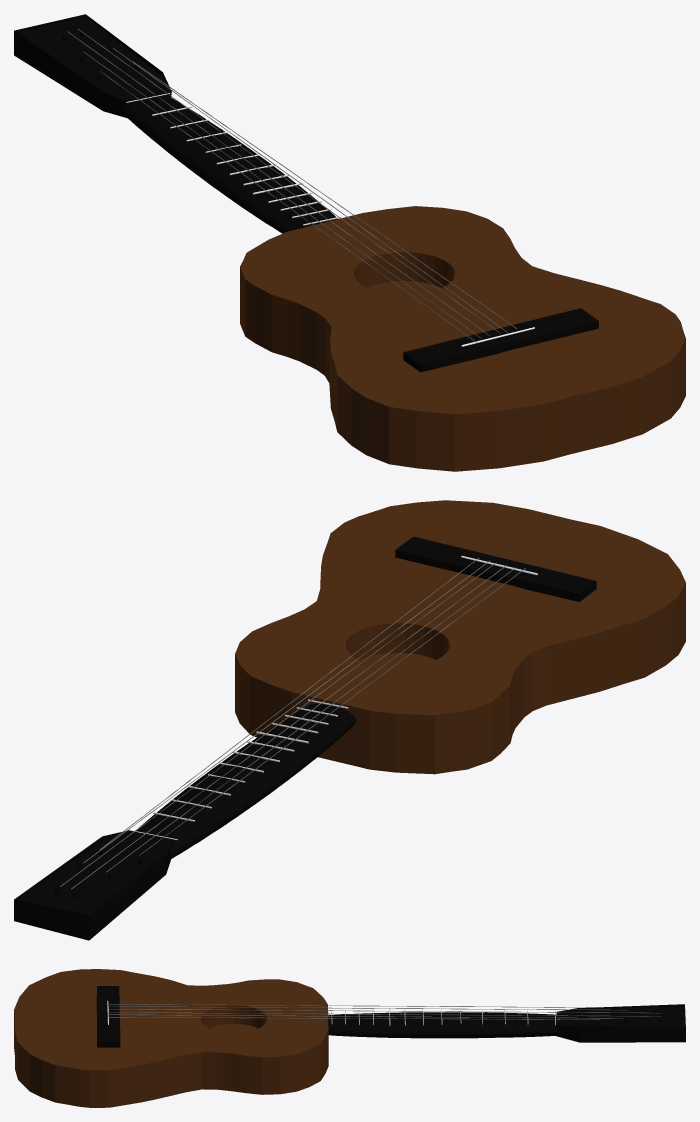
The model's file is guitarra_draco.glb.
The picture shows the model from 3 angles, top to bottom: view 1: azimuth 30°, elevation 25°; view 2: azimuth 150°, elevation 25°; view 3: azimuth 270°, elevation 25°; orthographic projection. The views are drawn at different scales.
Visible parts, largest first — view 1: Plane, Plane.001, Plane.002, Plane.003, NurbsPath.003, NurbsPath.004; view 2: Plane, Plane.001, Plane.002, Plane.003, NurbsPath.003, NurbsPath.004, NurbsPath.001, NurbsPath.005; view 3: Plane, Plane.001, Plane.002, Plane.003, NurbsPath.003, NurbsPath.004, NurbsPath.001, NurbsPath.005, NurbsPath.002, NurbsPath.
Part boxes in pixels (box(x1,y1,x2,y2)): Plane: box(240, 206, 685, 471); Plane.001: box(120, 93, 337, 233); Plane.002: box(14, 14, 171, 118); Plane.003: box(403, 308, 598, 372); NurbsPath.003: box(67, 31, 489, 335); NurbsPath.004: box(77, 29, 500, 333); Plane: box(235, 500, 685, 774); Plane.001: box(136, 703, 356, 859); Plane.002: box(14, 830, 173, 940); Plane.003: box(395, 536, 596, 601); NurbsPath.003: box(71, 565, 506, 889); NurbsPath.004: box(60, 562, 496, 886); NurbsPath.001: box(106, 567, 515, 872); NurbsPath.005: box(83, 560, 490, 863); Plane: box(14, 969, 328, 1107); Plane.001: box(328, 1012, 563, 1038); Plane.002: box(556, 1004, 685, 1042); Plane.003: box(96, 986, 120, 1047); NurbsPath.003: box(109, 1009, 660, 1013); NurbsPath.004: box(109, 1012, 661, 1016); NurbsPath.001: box(109, 1006, 628, 1010); NurbsPath.005: box(107, 1014, 623, 1018); NurbsPath.002: box(106, 1004, 596, 1007); NurbsPath: box(109, 1017, 600, 1019).
Bounding box in the file's own units: 5.81 × 1.19 × 16.25.
